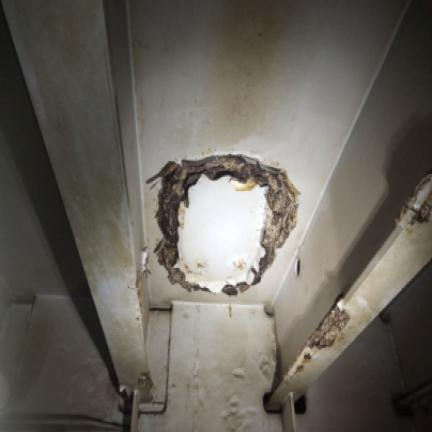besi_tidak_karat: (130, 0, 408, 301), (2, 0, 151, 396), (276, 0, 431, 368), (0, 7, 90, 317), (140, 305, 281, 431), (5, 297, 120, 419), (296, 319, 411, 431), (359, 175, 431, 332), (176, 175, 266, 292), (283, 297, 352, 395), (145, 311, 170, 412)
karat: (154, 155, 298, 294), (306, 305, 349, 348)
